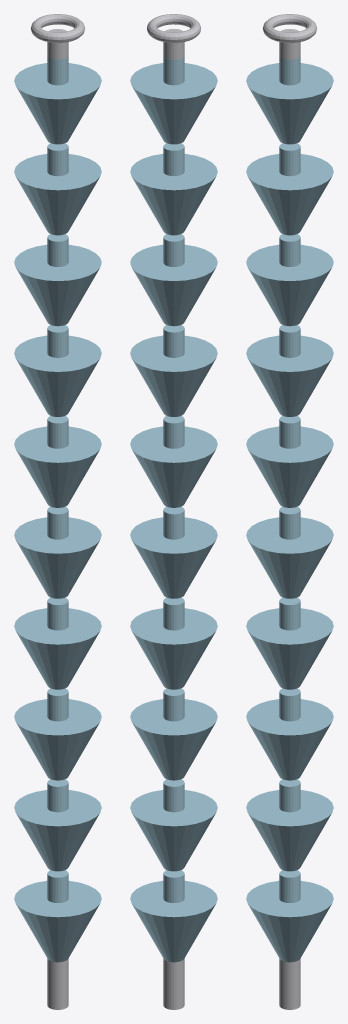
File: Cadena_1235mm.fbx
The picture shows the model from 3 angles, left to right: view 1: azimuth 90°, elevation 25°; view 2: azimuth 150°, elevation 25°; view 3: azimuth 270°, elevation 25°; orthographic projection.
Parts seen in each view (by area): view 1: Cadena_1235mm; view 2: Cadena_1235mm; view 3: Cadena_1235mm.
Boxes of the visible parts, x1,y1,x2,y2 form: Cadena_1235mm: [14, 14, 101, 1009]; Cadena_1235mm: [130, 14, 217, 1009]; Cadena_1235mm: [246, 14, 333, 1009].
Size of the model in its own units: 10 by 124 by 10.
